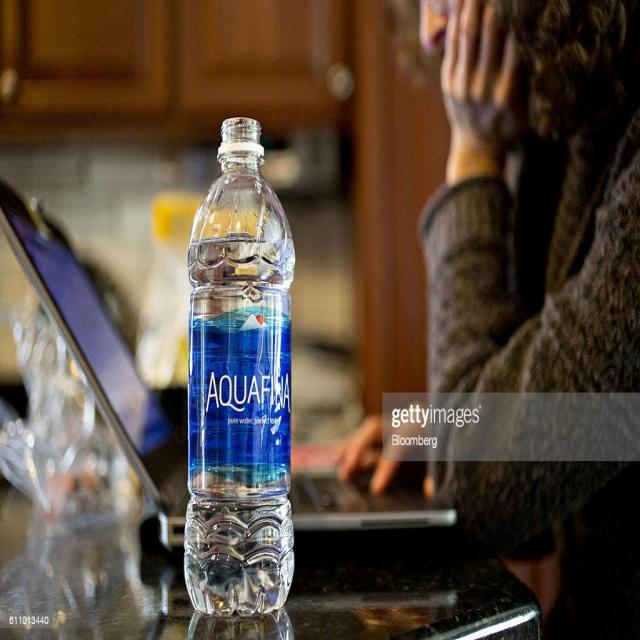bottle: (180, 115, 292, 628)
